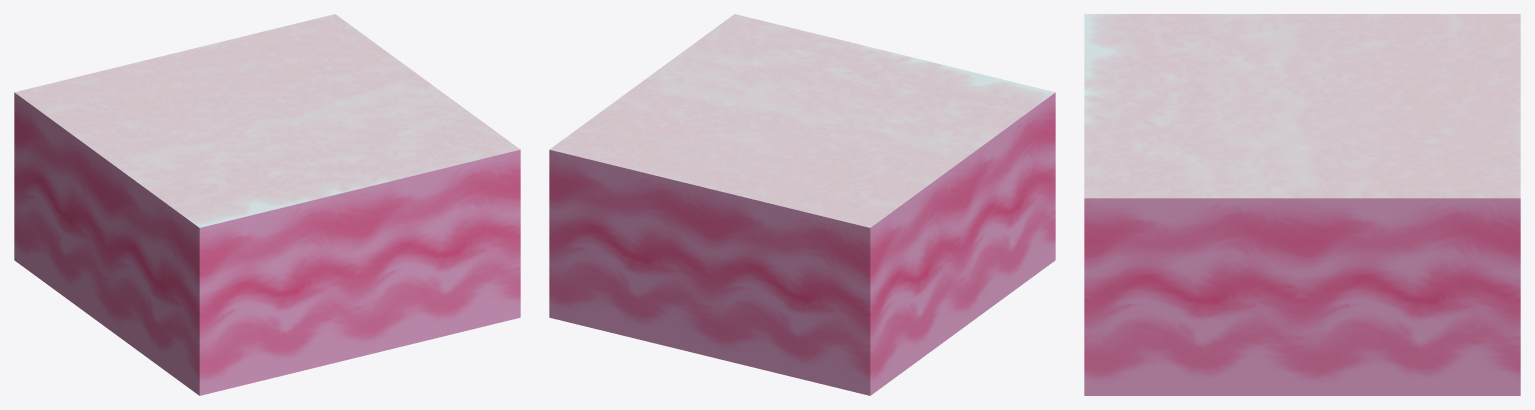
Rendered from Basic Tiles.glb.
The picture shows the model from 3 angles, left to right: view 1: azimuth 30°, elevation 25°; view 2: azimuth 150°, elevation 25°; view 3: azimuth 270°, elevation 25°; orthographic projection. The views are drawn at different scales.
Parts seen in each view (by area): view 1: Template, J Junction B, T Junction, T Junction Corner, J Junction A, J Junction Corner, J Junction Center, Corner, Thick T Junction, Cross Junction, B Junction, Double End (+2 smaller); view 2: Template, J Junction Corner, T Junction, J Junction A, T Junction Corner, J Junction B, J Junction Center, B Junction, Double End, Thick T Junction, Cross Junction, Corner (+1 smaller); view 3: Template, T Junction, J Junction A, T Junction Corner, J Junction Center, J Junction B, B Junction, J Junction Corner, Thick T Junction, Double End, Single, Corner (+1 smaller).
Part boxes in pixels (x1,y1,x2,y2): Template: (14,14,520,395); J Junction B: (96,14,466,207); T Junction: (63,48,445,207); T Junction Corner: (176,48,446,204); J Junction A: (95,34,507,194); J Junction Corner: (56,37,416,208); J Junction Center: (61,14,486,227); Corner: (240,59,519,207); Thick T Junction: (62,48,487,224); Cross Junction: (63,39,391,182); B Junction: (55,34,472,192); Double End: (99,33,281,124); Template: (549,14,1055,395); J Junction Corner: (598,34,979,219); T Junction: (624,34,1003,189); J Junction A: (631,15,930,206); T Junction Corner: (596,34,974,158); J Junction B: (553,34,971,200); J Junction Center: (567,14,1024,203); B Junction: (617,16,961,216); Double End: (630,120,834,207); Thick T Junction: (641,30,1046,190); Cross Junction: (607,100,925,203); Corner: (660,17,917,143); Template: (1084,14,1520,395); T Junction: (1084,14,1411,198); J Junction A: (1084,60,1520,196); T Junction Corner: (1084,68,1411,198); J Junction Center: (1084,14,1520,198); J Junction B: (1084,60,1520,197); B Junction: (1084,14,1520,198); J Junction Corner: (1084,14,1520,176); Thick T Junction: (1086,14,1465,198); Double End: (1304,60,1520,151); Single: (1198,60,1406,151); Corner: (1085,60,1401,198).
Bounding box in the file's own units: 2 × 1 × 2.
1 material, 1 textured.
